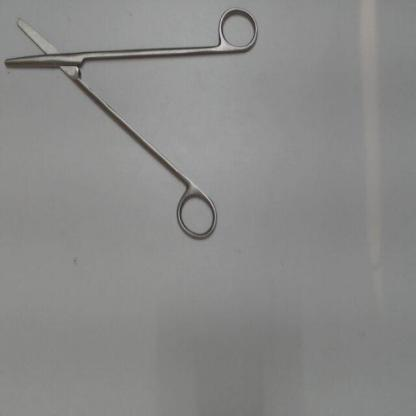9 Metzenbaum Scissors: (2, 2, 262, 248)
